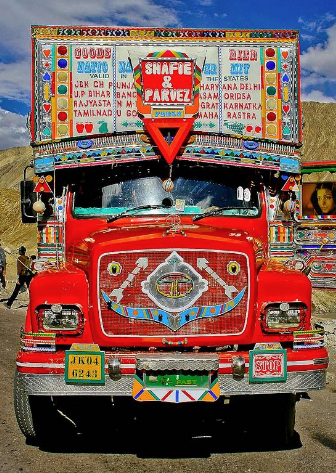truck: (11, 19, 325, 456)
